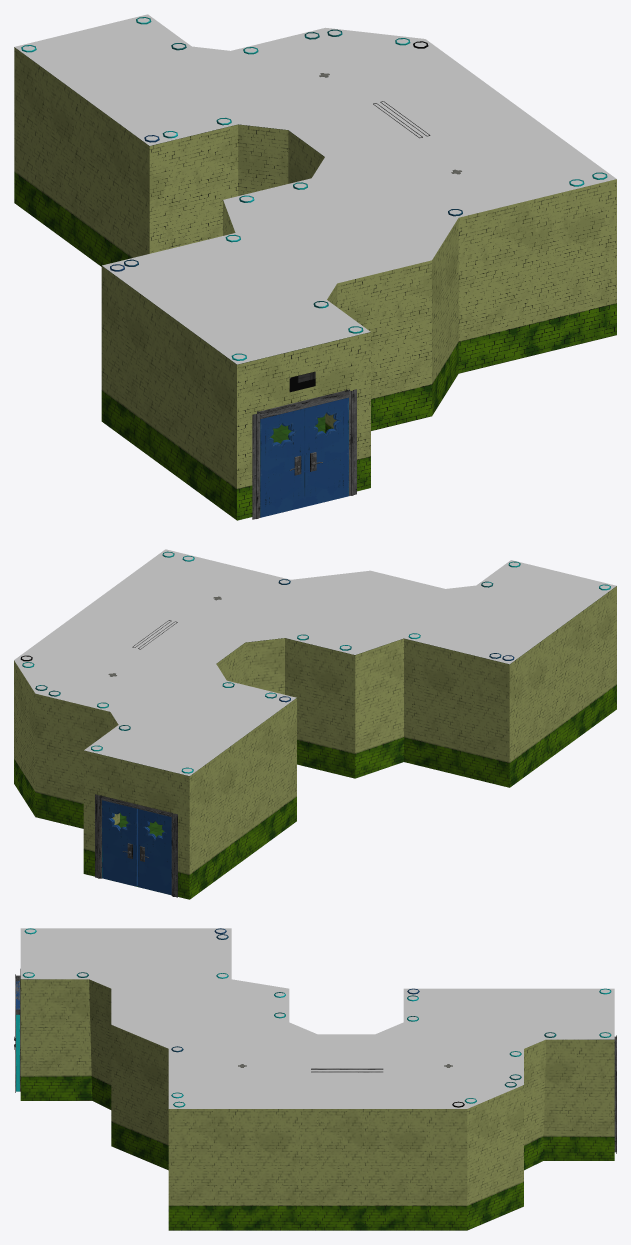
File: Science_Lab.fbx
3 views of the same model, one above another, from view 1: azimuth 30°, elevation 25°; view 2: azimuth 150°, elevation 25°; view 3: azimuth 270°, elevation 25° (orthographic). The views are drawn at different scales.
Parts seen in each view (by area): view 1: Wall, Roof, polySurface133, polySurface132, polySurface183; view 2: Wall, Roof, polySurface132, polySurface133, polySurface183; view 3: Wall, Roof.
Part boxes in pixels (x1,y1,x2,y2): Wall: (14, 47, 616, 520); Roof: (15, 14, 616, 364); polySurface133: (260, 408, 304, 517); polySurface132: (304, 397, 348, 506); polySurface183: (252, 389, 356, 519); Wall: (14, 586, 616, 899); Roof: (14, 549, 616, 775); polySurface132: (102, 800, 137, 886); polySurface133: (138, 809, 171, 895); polySurface183: (95, 794, 177, 897); Wall: (20, 979, 614, 1230); Roof: (20, 928, 614, 1108).
Size of the model in its own units: 33.03 by 10.44 by 46.59.
